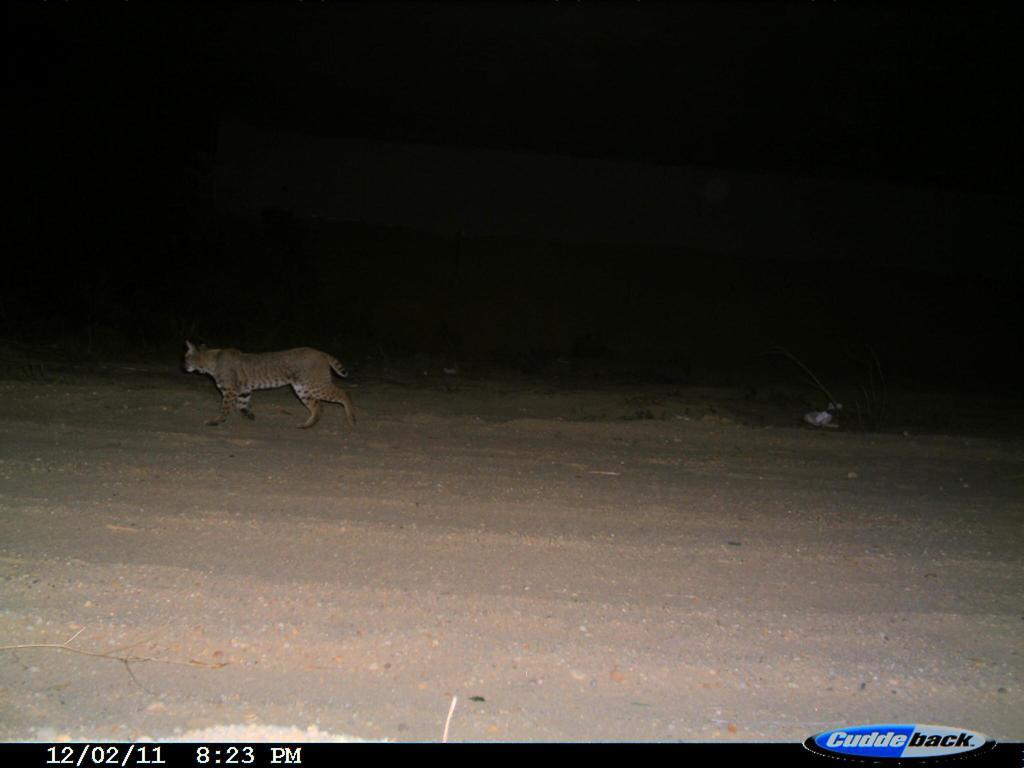bobcat: (176, 333, 367, 442)
